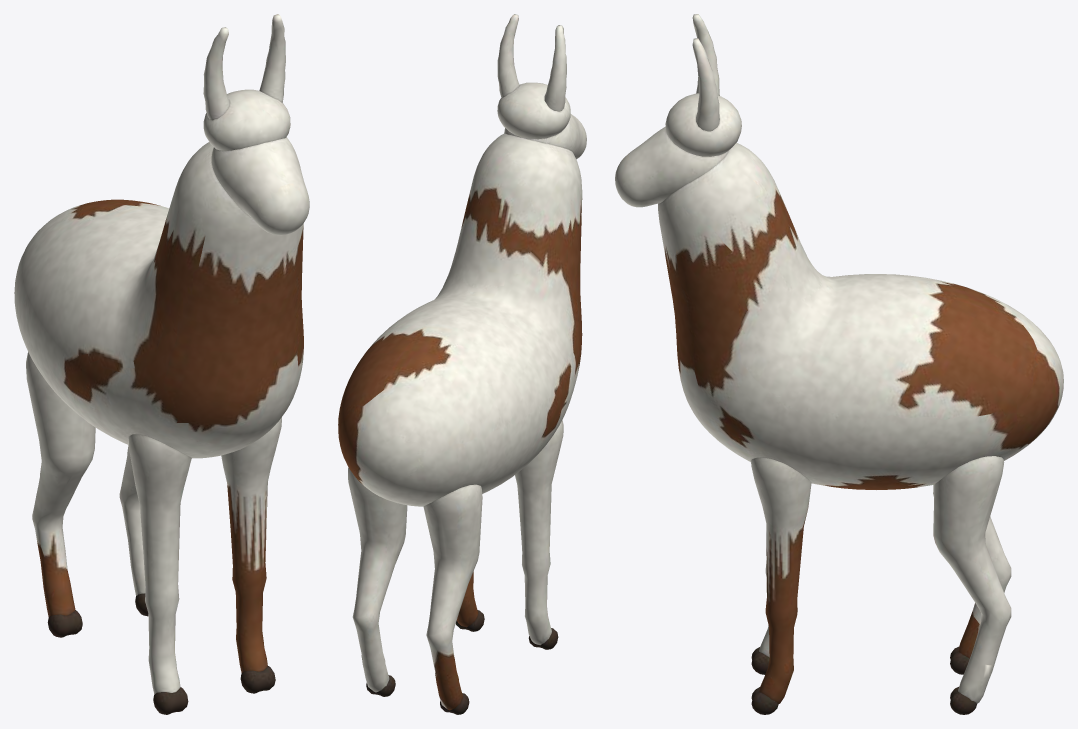
Rendered from animal_llama.glb.
The picture shows the model from 3 angles, left to right: view 1: azimuth 30°, elevation 25°; view 2: azimuth 150°, elevation 25°; view 3: azimuth 270°, elevation 25°; orthographic projection. The views are drawn at different scales.
Parts seen in each view (by area): view 1: animal_llama, head, leg0, leg2, leg1, leg3; view 2: animal_llama, leg2, leg3, head, leg0, leg1; view 3: animal_llama, leg3, head, leg1, leg2.
Boxes of the visible parts, <box> form: animal_llama: <box>14,142,303,458</box>; head: <box>203,14,309,235</box>; leg0: <box>128,434,191,714</box>; leg2: <box>26,352,95,637</box>; leg1: <box>221,417,281,693</box>; leg3: <box>119,445,148,616</box>; animal_llama: <box>338,133,582,506</box>; leg2: <box>423,484,482,714</box>; leg3: <box>348,467,407,696</box>; head: <box>497,14,586,159</box>; leg0: <box>515,420,563,649</box>; leg1: <box>456,571,484,631</box>; animal_llama: <box>658,143,1063,489</box>; leg3: <box>933,456,1011,714</box>; head: <box>615,14,741,207</box>; leg1: <box>751,457,811,714</box>; leg2: <box>933,484,1011,674</box>.
Bounding box in the file's own units: 0.2918 × 0.9892 × 0.6054.
Materials: 1 (1 with a texture image).
